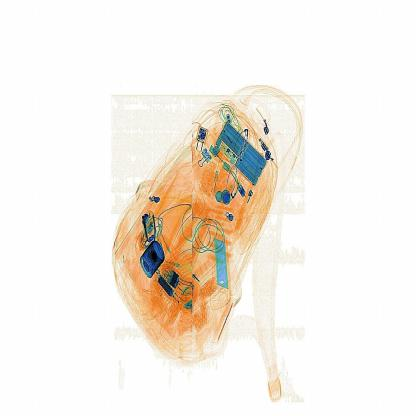pliers: (213, 232, 228, 304)
